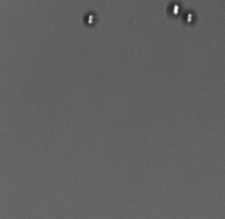Living Cell: (82, 9, 98, 28), (182, 8, 198, 25), (166, 1, 182, 17)
